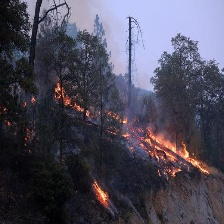fire: (147, 129, 210, 183), (52, 85, 90, 118), (110, 108, 142, 147), (90, 179, 114, 207), (23, 97, 38, 108)
